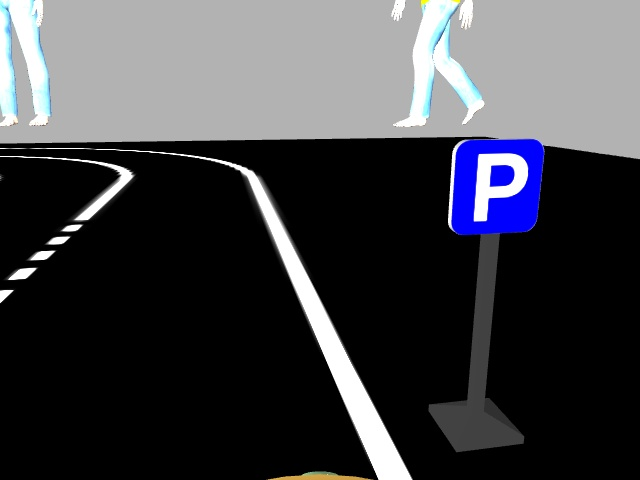Parking: (449, 139, 541, 234)
